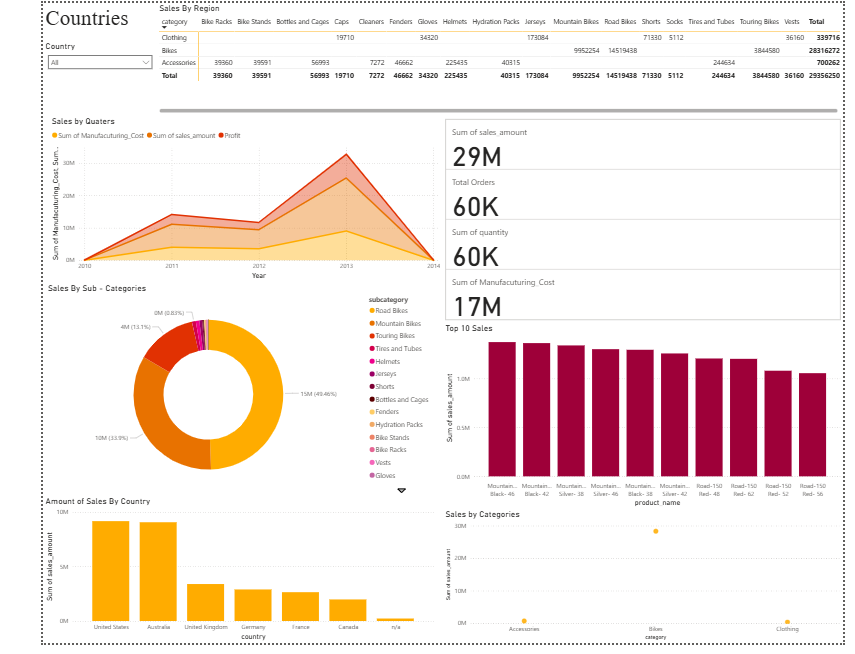

Layout of this report page (visuals, bound fields, positions):
{"tool":"powerbi","page":{"name":"Country Sales","canvas":[1600,1280],"ordinal":1},"visuals":[{"type":"slicer","title":"Country","fields":{"Values":["gold dim_customers.country"]},"box":[0,75,228.3,150],"z":0},{"type":"stackedAreaChart","title":"Sales by Quaters","fields":{"Y":["Sum(gold fact_sales.Manufacuturing_Cost)","Sum(gold fact_sales.sales_amount)","gold fact_sales.Profit"],"Category":["gold fact_sales.order_date.Variation.Date Hierarchy.Year","gold fact_sales.order_date.Variation.Date Hierarchy.Quarter","gold fact_sales.order_date.Variation.Date Hierarchy.Month"]},"box":[13.3,225,786.7,333.3],"z":1000},{"type":"donutChart","title":"Sales By Sub - Categories","fields":{"Category":["gold dim_products.subcategory"],"Y":["Sum(gold fact_sales.sales_amount)"]},"box":[6,560,780,428],"z":2000},{"type":"columnChart","title":"Amount of Sales By Country","fields":{"Category":["gold dim_customers.country"],"Y":["Sum(gold fact_sales.sales_amount)"]},"box":[0,985,786.7,295],"z":3000},{"type":"clusteredColumnChart","title":"Top 10 Sales","fields":{"Category":["gold dim_products.product_name"],"Y":["Sum(gold fact_sales.sales_amount)"]},"box":[800,640,800,371.7],"z":4000},{"type":"cardVisual","fields":{"Data":["Sum(gold fact_sales.sales_amount)","gold fact_sales.Total Orders","Sum(gold fact_sales.quantity)","Sum(gold fact_sales.Manufacuturing_Cost)"]},"box":[800,226.7,800,413.3],"z":5000},{"type":"textbox","box":[0,0,228.3,73.3],"z":6000},{"type":"pivotTable","title":"Sales By Region","fields":{"Rows":["gold dim_products.category"],"Values":["Sum(gold fact_sales.sales_amount)"],"Columns":["gold dim_products.subcategory"]},"box":[228.3,0,1371.7,225],"z":7000},{"type":"scatterChart","title":"Sales by Categories","fields":{"Y":["Sum(gold fact_sales.sales_amount)"],"X":["gold dim_products.category"]},"box":[800,1012,800,268],"z":7001}]}

Visuals, with their boxes on the page's 1600x1280 design canvas (x1, y1, x2, y2). These are canvas units, not pixel positions in the 855x654 screenshot, which may show the page scaled, cropped or inside an application window:
"Country" slicer: box=[0, 75, 228, 225]
"Sales by Quaters" stackedAreaChart: box=[13, 225, 800, 558]
"Sales By Sub - Categories" donutChart: box=[6, 560, 786, 988]
"Amount of Sales By Country" columnChart: box=[0, 985, 787, 1280]
"Top 10 Sales" clusteredColumnChart: box=[800, 640, 1600, 1012]
cardVisual - Sum(gold fact_sales.sales_amount) x gold fact_sales.Total Orders: box=[800, 227, 1600, 640]
textbox: box=[0, 0, 228, 73]
"Sales By Region" pivotTable: box=[228, 0, 1600, 225]
"Sales by Categories" scatterChart: box=[800, 1012, 1600, 1280]
